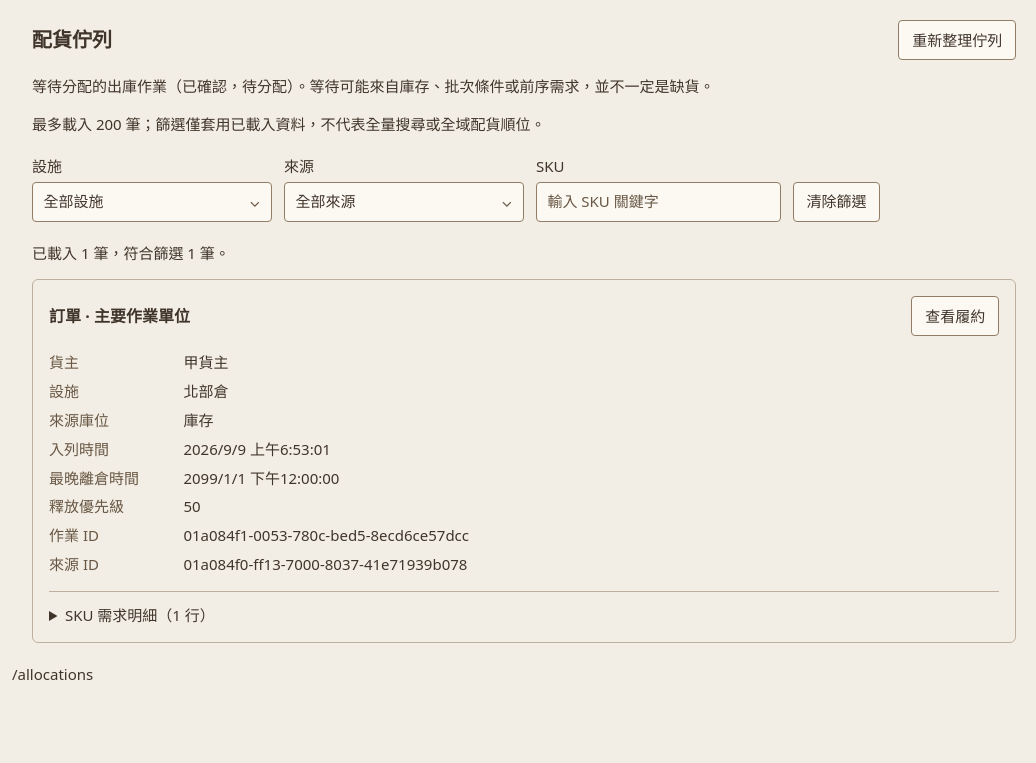
Test: loads the supported queue with a 200 limit, shows fields and expands demand lines
Check: the text "已載入 1 筆，符合篩選 1 筆。" is shown, box [32,242,230,262]
Check: the text "01a084f1-0053-780c-bed5-8ecd6ce57dcc" is shown, box [183,525,469,545]
Click the heading "SKU 需求明細（1 行）".
click(140, 615)  # box [65,605,215,625]
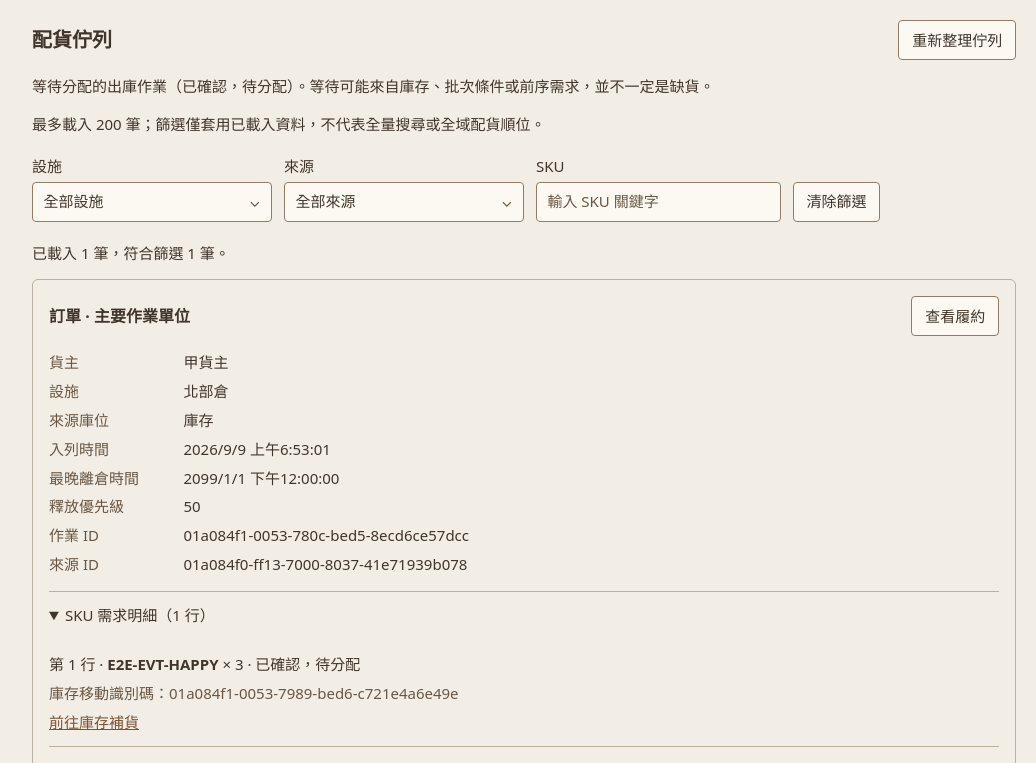
Check: the text "E2E-EVT-HAPPY" is shown, box [107,654,218,674]
